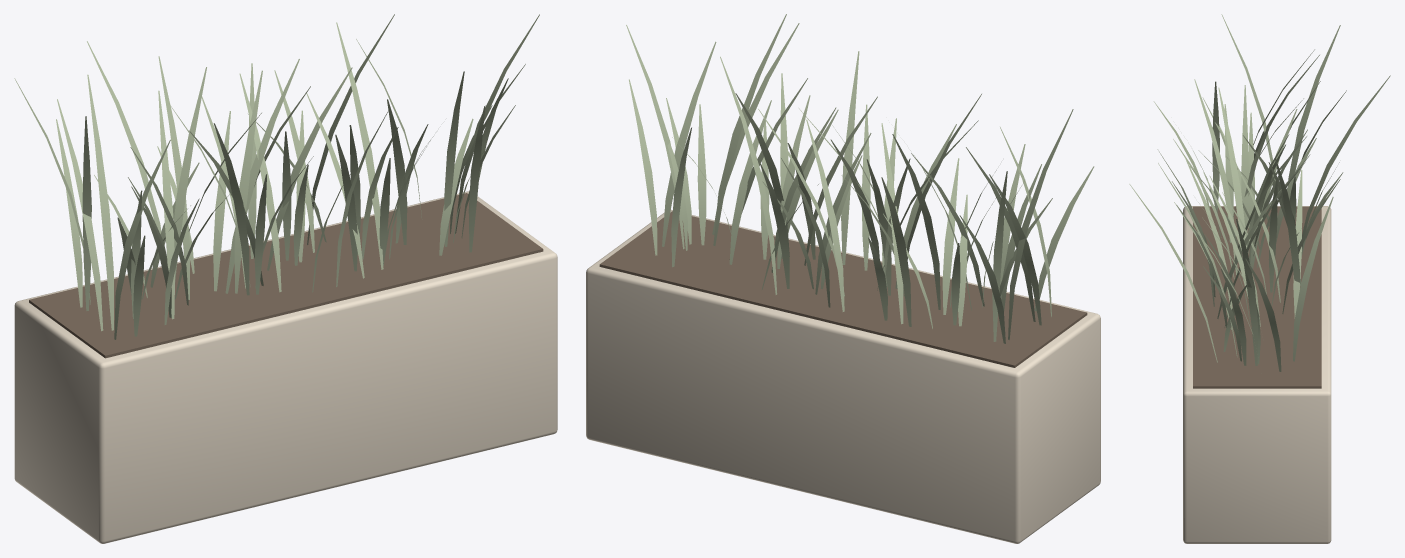
Rendered from mo_planter_grass.glb.
3 renders of one model, left to right at view 1: azimuth 30°, elevation 25°; view 2: azimuth 150°, elevation 25°; view 3: azimuth 270°, elevation 25°, orthographic. The views are drawn at different scales.
Parts seen in each view (by area): view 1: trough, grass, soil; view 2: trough, grass, soil; view 3: trough, grass, soil.
Part boxes in pixels (x1,y1,x2,y2): trough: (14, 191, 557, 543); grass: (14, 14, 539, 339); soil: (29, 193, 543, 358); trough: (586, 210, 1100, 543); grass: (626, 14, 1094, 343); soil: (599, 211, 1087, 367); trough: (1183, 206, 1331, 543); grass: (1129, 14, 1390, 371); soil: (1193, 206, 1321, 388).
Bounding box in the file's own units: 0.9243 × 0.7722 × 0.529.
